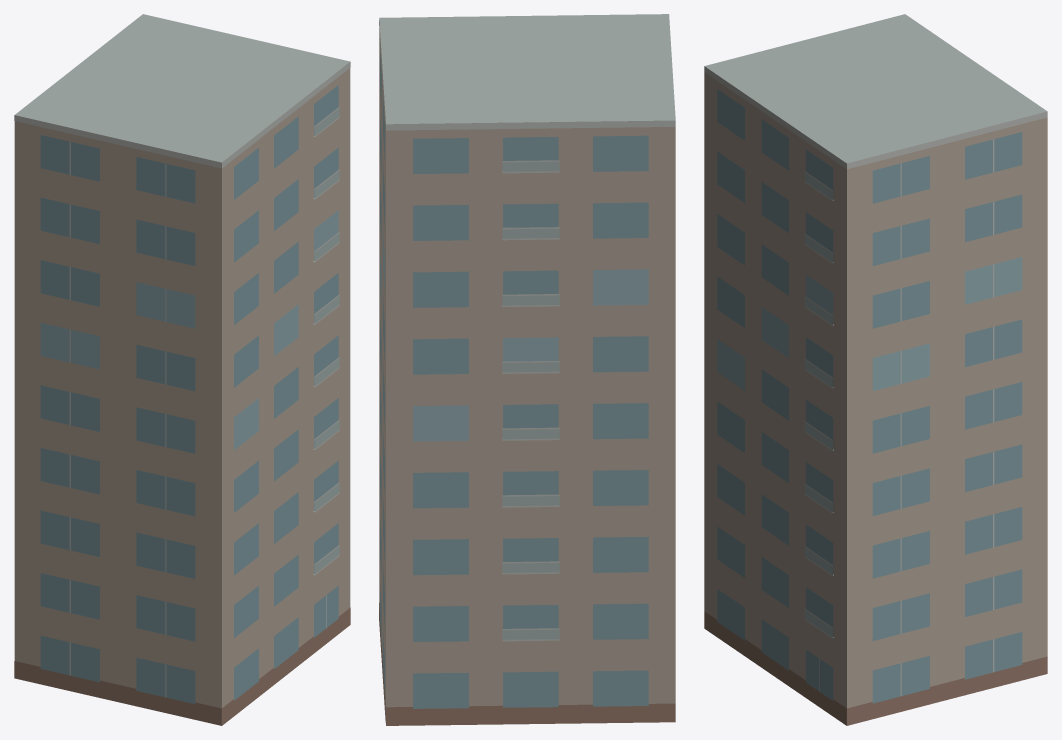
Rendered from survey-upis-32671485.glb.
3 views of the same model, side by side, from view 1: azimuth 30°, elevation 25°; view 2: azimuth 150°, elevation 25°; view 3: azimuth 270°, elevation 25° (orthographic). The views are drawn at different scales.
Visible parts, largest first — view 1: survey-upis-32671485.tmp; view 2: survey-upis-32671485.tmp; view 3: survey-upis-32671485.tmp.
Boxes of the visible parts, x1,y1,x2,y2 form: survey-upis-32671485.tmp: [14, 14, 350, 725]; survey-upis-32671485.tmp: [379, 14, 675, 725]; survey-upis-32671485.tmp: [704, 14, 1047, 725].
Size of the model in its own units: 13.23 by 23.2 by 12.85.
